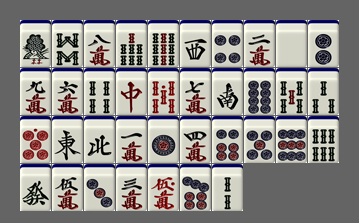0m: (148, 164, 179, 211)
0p: (20, 116, 51, 163)
0s: (148, 68, 179, 115)
1m: (116, 116, 147, 163)
1p: (148, 116, 179, 163)
1s: (20, 20, 51, 67)
1z: (52, 116, 83, 163)
2m: (244, 20, 275, 67)
2p: (308, 20, 339, 67)
2s: (212, 164, 243, 211)
2z: (212, 68, 243, 115)
3m: (116, 164, 147, 211)
3p: (84, 164, 115, 211)
3s: (308, 68, 339, 115)
3z: (180, 20, 211, 67)
4m: (180, 116, 211, 163)
4p: (212, 20, 243, 67)
4s: (84, 68, 115, 115)
4z: (84, 116, 115, 163)
5m: (52, 164, 83, 211)
5p: (244, 116, 275, 163)
5s: (276, 68, 307, 115)
5z: (276, 20, 307, 67)
6m: (52, 68, 83, 115)
6p: (212, 116, 243, 163)
6s: (308, 116, 339, 163)
6z: (20, 164, 51, 211)
7m: (180, 68, 211, 115)
7p: (180, 164, 211, 211)
7s: (116, 20, 147, 67)
7z: (116, 68, 147, 115)
8m: (84, 20, 115, 67)
8p: (244, 68, 275, 115)
8s: (52, 20, 83, 67)
9m: (20, 68, 51, 115)
9p: (276, 116, 307, 163)
9s: (148, 20, 179, 67)
